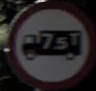Heavy Vehicles: (8, 8, 89, 78)
